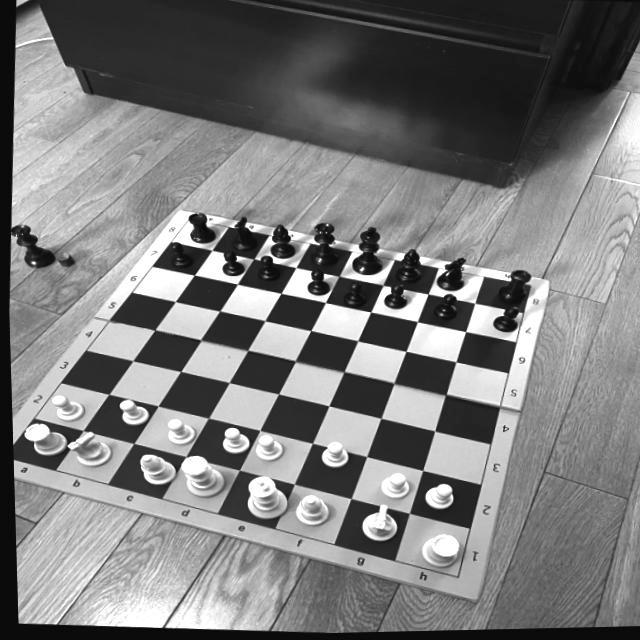chess-table-corners: (522, 282, 536, 294), (446, 574, 462, 584)
